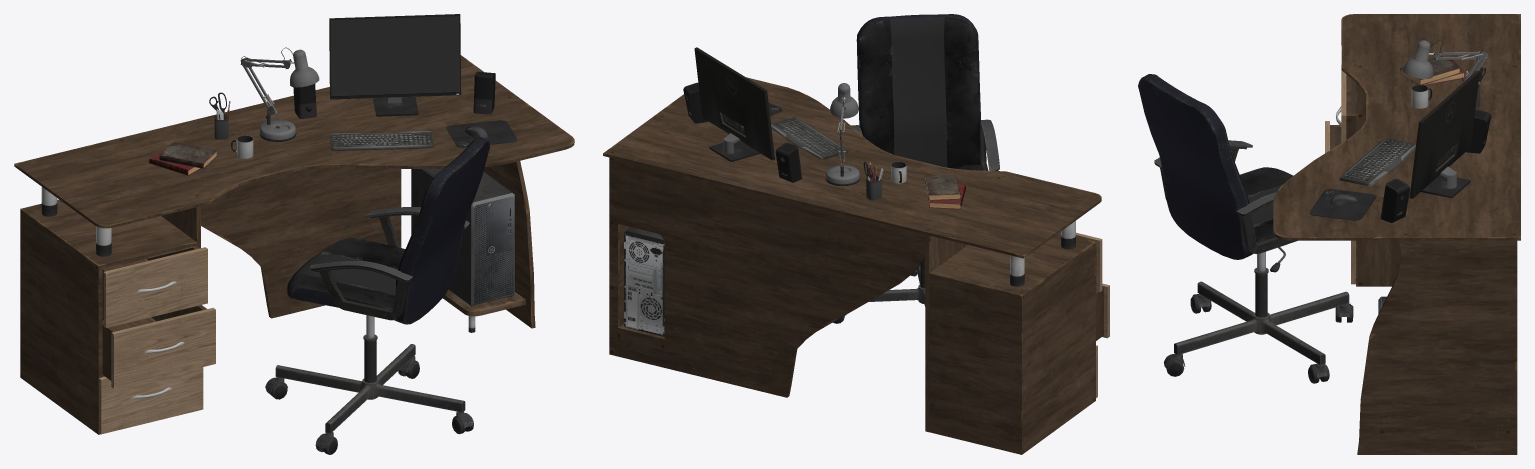
The model's file is computer_desk-opt.glb.
3 views of the same model, side by side, from view 1: azimuth 30°, elevation 25°; view 2: azimuth 150°, elevation 25°; view 3: azimuth 270°, elevation 25° (orthographic). The views are drawn at different scales.
Parts seen in each view (by area): view 1: Desk_Desk_0, Chair_Chair_0, Monitor_Monitor_0, Computer_Computer_0, DeskLamp_DeskLamp_0, Keyboard_Keyboard_0, Mouse_Mouse_0, Book01_Book01_0, Loudspeaker02_Loudspeaker02_0, Loudspeaker01_Loudspeaker01_0, StationeryCup_StationeryCup_0; view 2: Desk_Desk_0, Chair_Chair_0, Monitor_Monitor_0, Computer_Computer_0, Keyboard_Keyboard_0, DeskLamp_DeskLamp_0, Book01_Book01_0, Loudspeaker01_Loudspeaker01_0, Loudspeaker02_Loudspeaker02_0, StationeryCup_StationeryCup_0; view 3: Desk_Desk_0, Chair_Chair_0, Monitor_Monitor_0, Keyboard_Keyboard_0, Mouse_Mouse_0, DeskLamp_DeskLamp_0, Loudspeaker02_Loudspeaker02_0, Book01_Book01_0, Loudspeaker01_Loudspeaker01_0, Cup_Cup_0.
Boxes of the visible parts, x1,y1,x2,y2 form: Desk_Desk_0: (14,55,574,434); Chair_Chair_0: (265,137,489,454); Monitor_Monitor_0: (329,14,461,116); Computer_Computer_0: (411,169,514,306); DeskLamp_DeskLamp_0: (240,47,319,141); Keyboard_Keyboard_0: (329,131,433,150); Mouse_Mouse_0: (446,120,517,147); Book01_Book01_0: (159,142,217,168); Loudspeaker02_Loudspeaker02_0: (473,71,495,114); Loudspeaker01_Loudspeaker01_0: (293,83,316,118); StationeryCup_StationeryCup_0: (209,92,230,139); Desk_Desk_0: (603,77,1109,454); Chair_Chair_0: (833,14,999,323); Monitor_Monitor_0: (694,47,774,161); Computer_Computer_0: (624,227,664,336); Keyboard_Keyboard_0: (771,117,848,159); DeskLamp_DeskLamp_0: (825,83,859,186); Book01_Book01_0: (924,174,960,200); Loudspeaker01_Loudspeaker01_0: (775,142,802,182); Loudspeaker02_Loudspeaker02_0: (683,82,708,123); StationeryCup_StationeryCup_0: (863,161,883,200); Desk_Desk_0: (1273,14,1520,454); Chair_Chair_0: (1138,74,1353,383); Monitor_Monitor_0: (1409,70,1479,198); Keyboard_Keyboard_0: (1339,138,1415,186); Mouse_Mouse_0: (1309,189,1376,220); DeskLamp_DeskLamp_0: (1403,40,1487,82); Loudspeaker02_Loudspeaker02_0: (1380,178,1409,222); Book01_Book01_0: (1400,56,1460,84); Loudspeaker01_Loudspeaker01_0: (1466,109,1491,153); Cup_Cup_0: (1411,85,1432,108).
Bounding box in the file's own units: 2.13 × 1.39 × 1.54.
14 materials, 14 textured.
